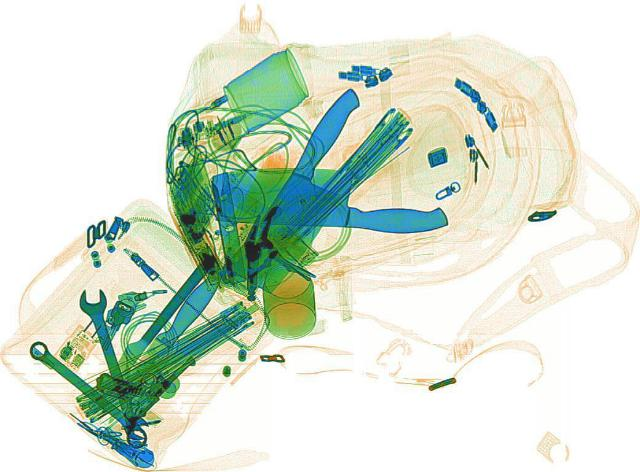Gun: (84, 335, 194, 416)
Knife: (216, 84, 404, 293), (205, 162, 450, 235), (90, 257, 212, 396), (102, 273, 224, 410)
Wrench: (72, 285, 158, 448), (19, 338, 155, 441)
